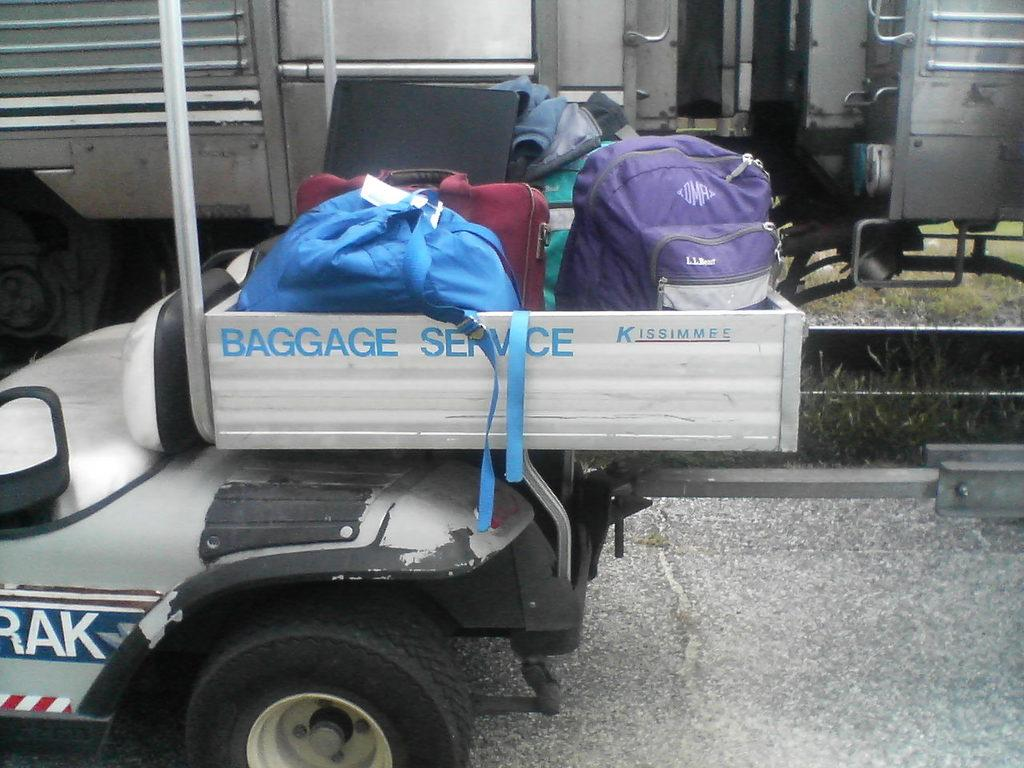Luggage-and-bags: (235, 190, 530, 527), (294, 165, 551, 314), (533, 130, 639, 309)
